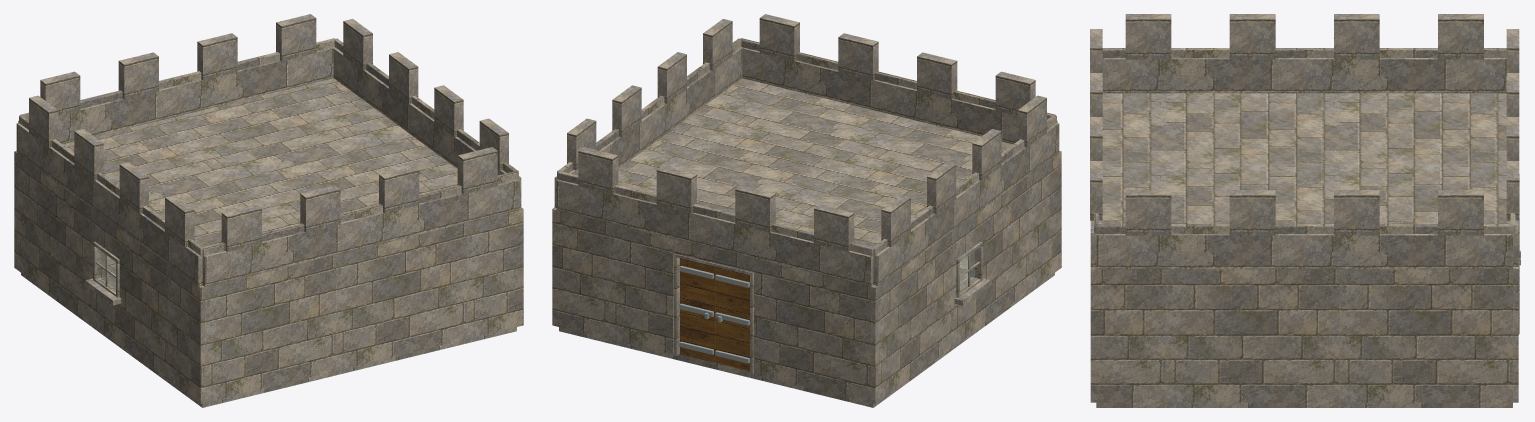
Rendered from castle-roof-store.gltf.
3 views of the same model, side by side, from view 1: azimuth 30°, elevation 25°; view 2: azimuth 150°, elevation 25°; view 3: azimuth 270°, elevation 25° (orthographic). The views are drawn at different scales.
Visible parts, largest first — view 1: exterior-L0-stone, roof-parapet-L1-stone, roof-L1-stone, datum-band-L0-stone, floor-L0-stone, facade-trim-L0-stone; view 2: roof-parapet-L1-stone, exterior-L0-stone, roof-L1-stone, door-L0-door (×2), datum-band-L0-stone, floor-L0-stone, door-L0-iron (×2), portal-trim-L0-stone, facade-trim-L0-stone; view 3: roof-parapet-L1-stone, exterior-L0-stone, roof-L1-stone, datum-band-L0-stone, floor-L0-stone.
Boxes of the visible parts, left/top/right/bottom form: exterior-L0-stone: left=14, top=158, right=523, bottom=403; roof-parapet-L1-stone: left=16, top=14, right=521, bottom=286; roof-L1-stone: left=63, top=78, right=457, bottom=247; datum-band-L0-stone: left=14, top=151, right=523, bottom=294; floor-L0-stone: left=21, top=256, right=516, bottom=407; facade-trim-L0-stone: left=85, top=241, right=121, bottom=305; roof-parapet-L1-stone: left=554, top=14, right=1059, bottom=286; exterior-L0-stone: left=552, top=158, right=1061, bottom=403; roof-L1-stone: left=618, top=78, right=1012, bottom=247; door-L0-door (×2): left=680, top=258, right=749, bottom=371; datum-band-L0-stone: left=552, top=151, right=1061, bottom=294; floor-L0-stone: left=559, top=256, right=1054, bottom=407; door-L0-iron (×2): left=679, top=265, right=749, bottom=363; portal-trim-L0-stone: left=674, top=253, right=753, bottom=374; facade-trim-L0-stone: left=954, top=241, right=990, bottom=305; roof-parapet-L1-stone: left=1090, top=14, right=1519, bottom=269; exterior-L0-stone: left=1090, top=277, right=1518, bottom=402; roof-L1-stone: left=1102, top=93, right=1507, bottom=223; datum-band-L0-stone: left=1090, top=267, right=1518, bottom=276; floor-L0-stone: left=1096, top=402, right=1512, bottom=407.
Size of the model in its own units: 6.33 by 3.42 by 6.2.
Materials: 5 (3 with a texture image).
